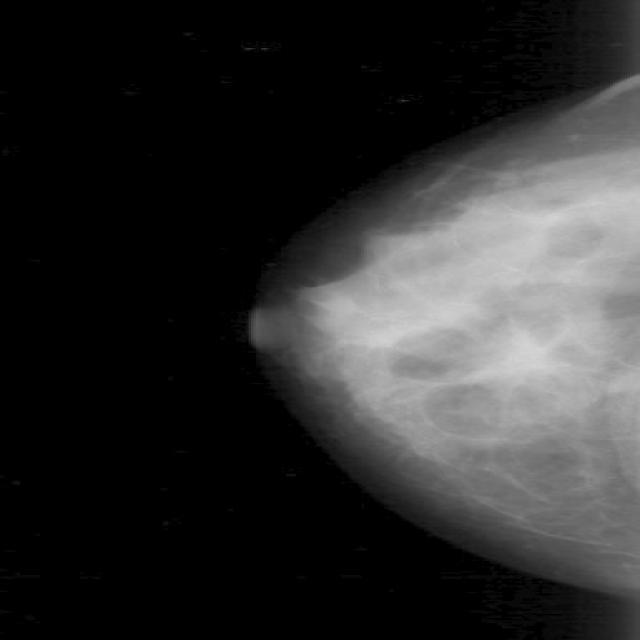tumour: (474, 323, 582, 395)
